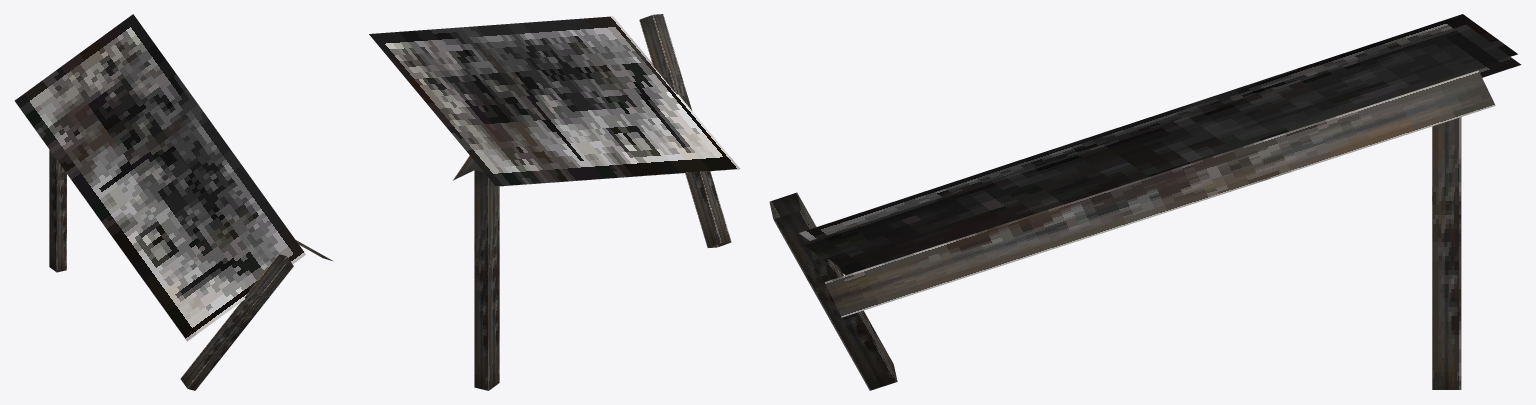
Rendered from Environment - Prop - Highway Sign 02 - Damaged - PMHwySgn02_d.glb.
The picture shows the model from 3 angles, left to right: view 1: azimuth 30°, elevation 25°; view 2: azimuth 150°, elevation 25°; view 3: azimuth 270°, elevation 25°; orthographic projection. The views are drawn at different scales.
Parts seen in each view (by area): view 1: PMHWYSGN02_D; view 2: PMHWYSGN02_D; view 3: PMHWYSGN02_D.
Part boxes in pixels (left/top/right/bottom): PMHWYSGN02_D: left=14, top=14, right=333, bottom=390; PMHWYSGN02_D: left=369, top=14, right=739, bottom=390; PMHWYSGN02_D: left=769, top=14, right=1521, bottom=390.
Size of the model in its own units: 11.11 by 17.8 by 26.17.
Materials: 1 (1 with a texture image).
